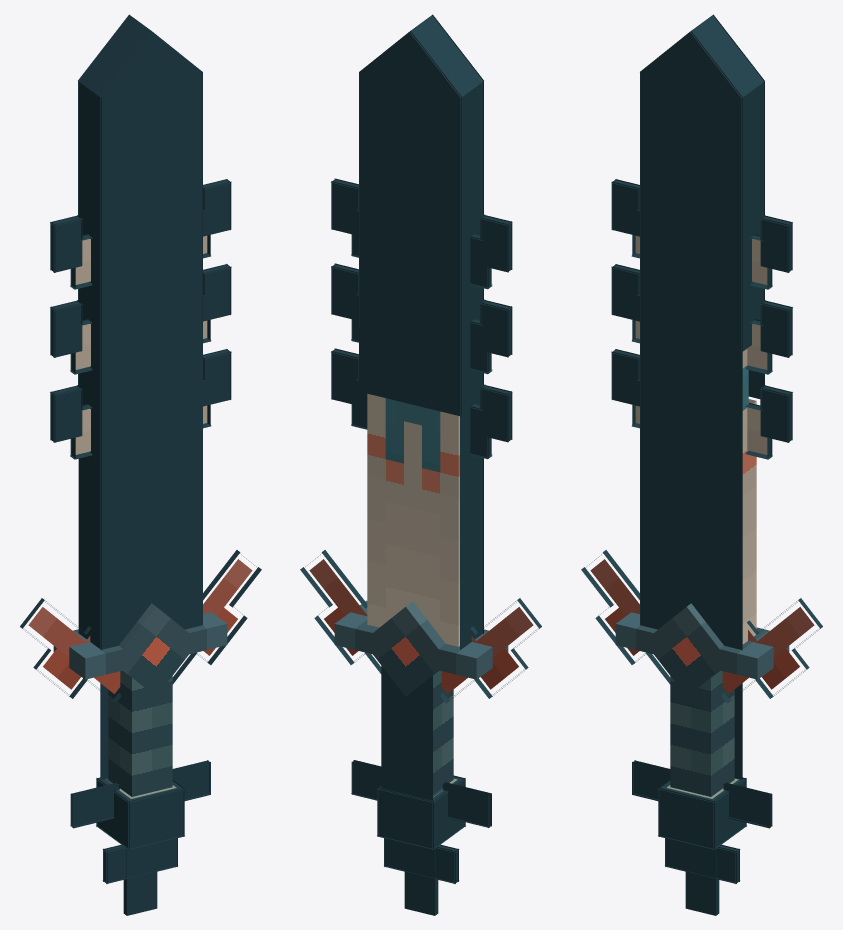
The model's file is Nautilus Longsword.obj.
3 views of the same model, side by side, from view 1: azimuth 30°, elevation 25°; view 2: azimuth 150°, elevation 25°; view 3: azimuth 330°, elevation 25° (orthographic).
Visible parts, largest first — view 1: cube; view 2: cube; view 3: cube.
Part boxes in pixels (box(x1,y1,x2,y2)): cube: box(20, 14, 261, 915); cube: box(300, 14, 541, 915); cube: box(581, 14, 822, 915).
Size of the model in its own units: 0.779 by 2.61 by 0.175.
Materials: 4 (4 with a texture image).
